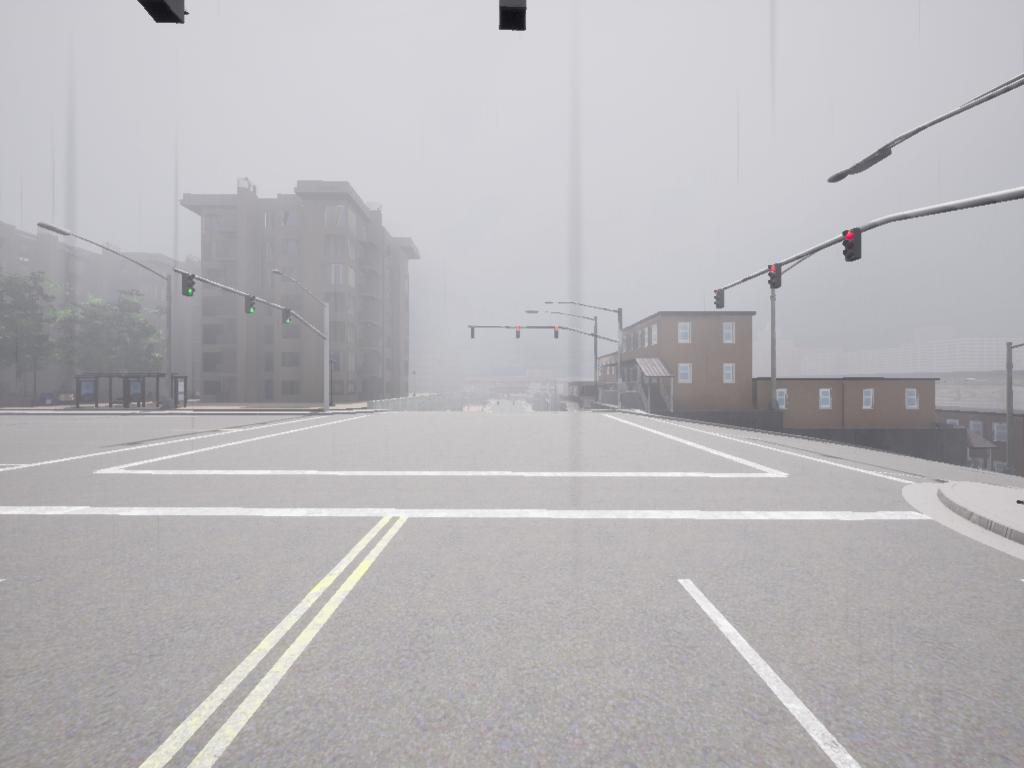traffic_light: (135, 1, 187, 24), (497, 2, 528, 33), (845, 230, 866, 263), (769, 266, 783, 290), (183, 277, 198, 298), (715, 289, 726, 309), (249, 299, 260, 315), (283, 308, 292, 326), (554, 327, 561, 341), (517, 327, 522, 340), (472, 328, 476, 339)
